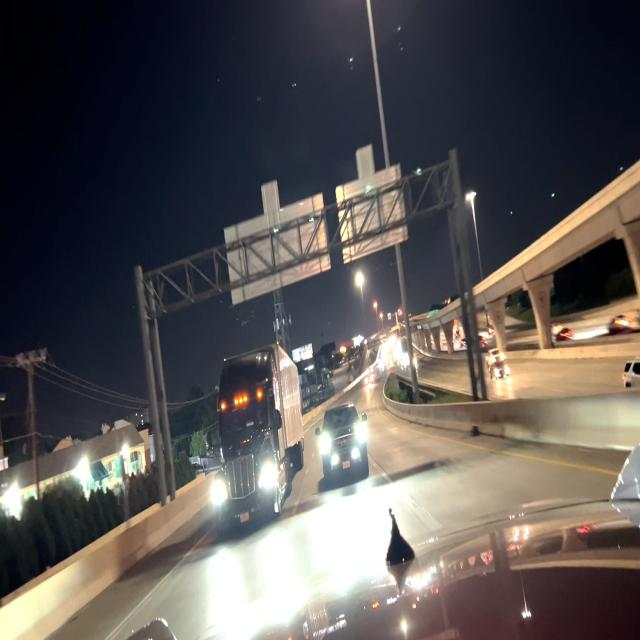back-of-sign: (223, 177, 330, 308), (335, 145, 410, 265)
